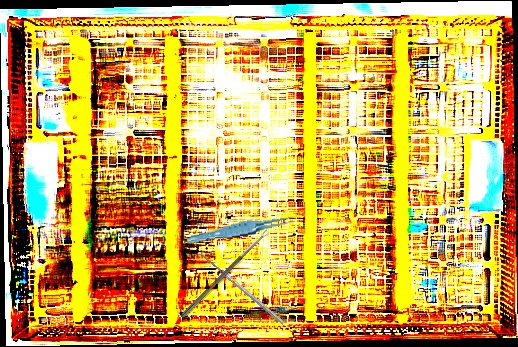Spatula Surgical: (193, 249, 285, 328)
Surgical Spoon: (180, 229, 270, 320)
Tissue Forceps: (185, 214, 302, 245)
